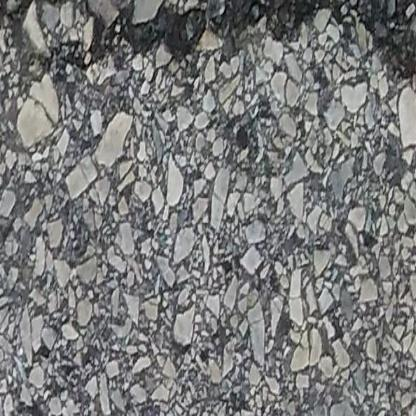Cracks: (0, 0, 416, 85)
